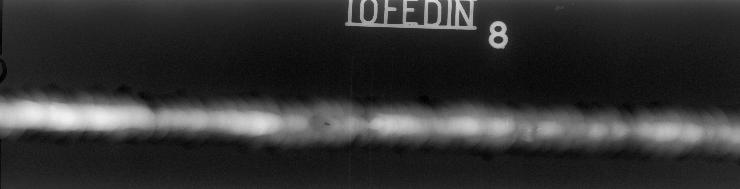FF: (1, 127, 740, 164), (2, 84, 740, 118)
FP: (321, 120, 333, 126)
PE: (1, 106, 284, 136), (374, 112, 516, 136), (634, 121, 738, 146)
